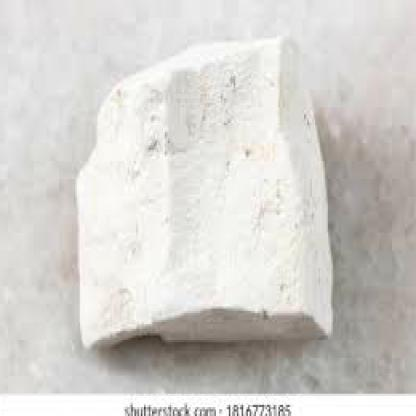Sedimentary_Chalk: (72, 29, 336, 356)
